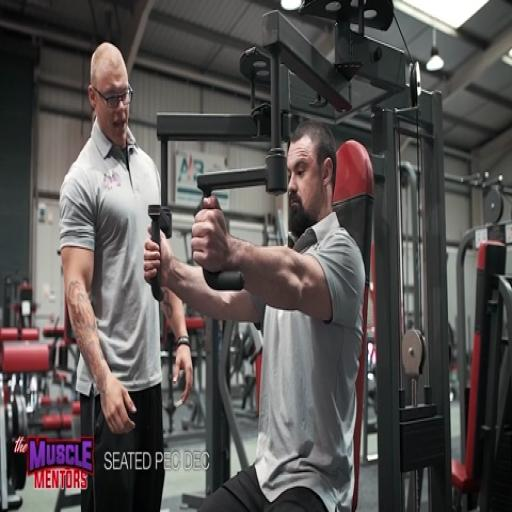exercise: (142, 118, 368, 511), (56, 40, 195, 510)
